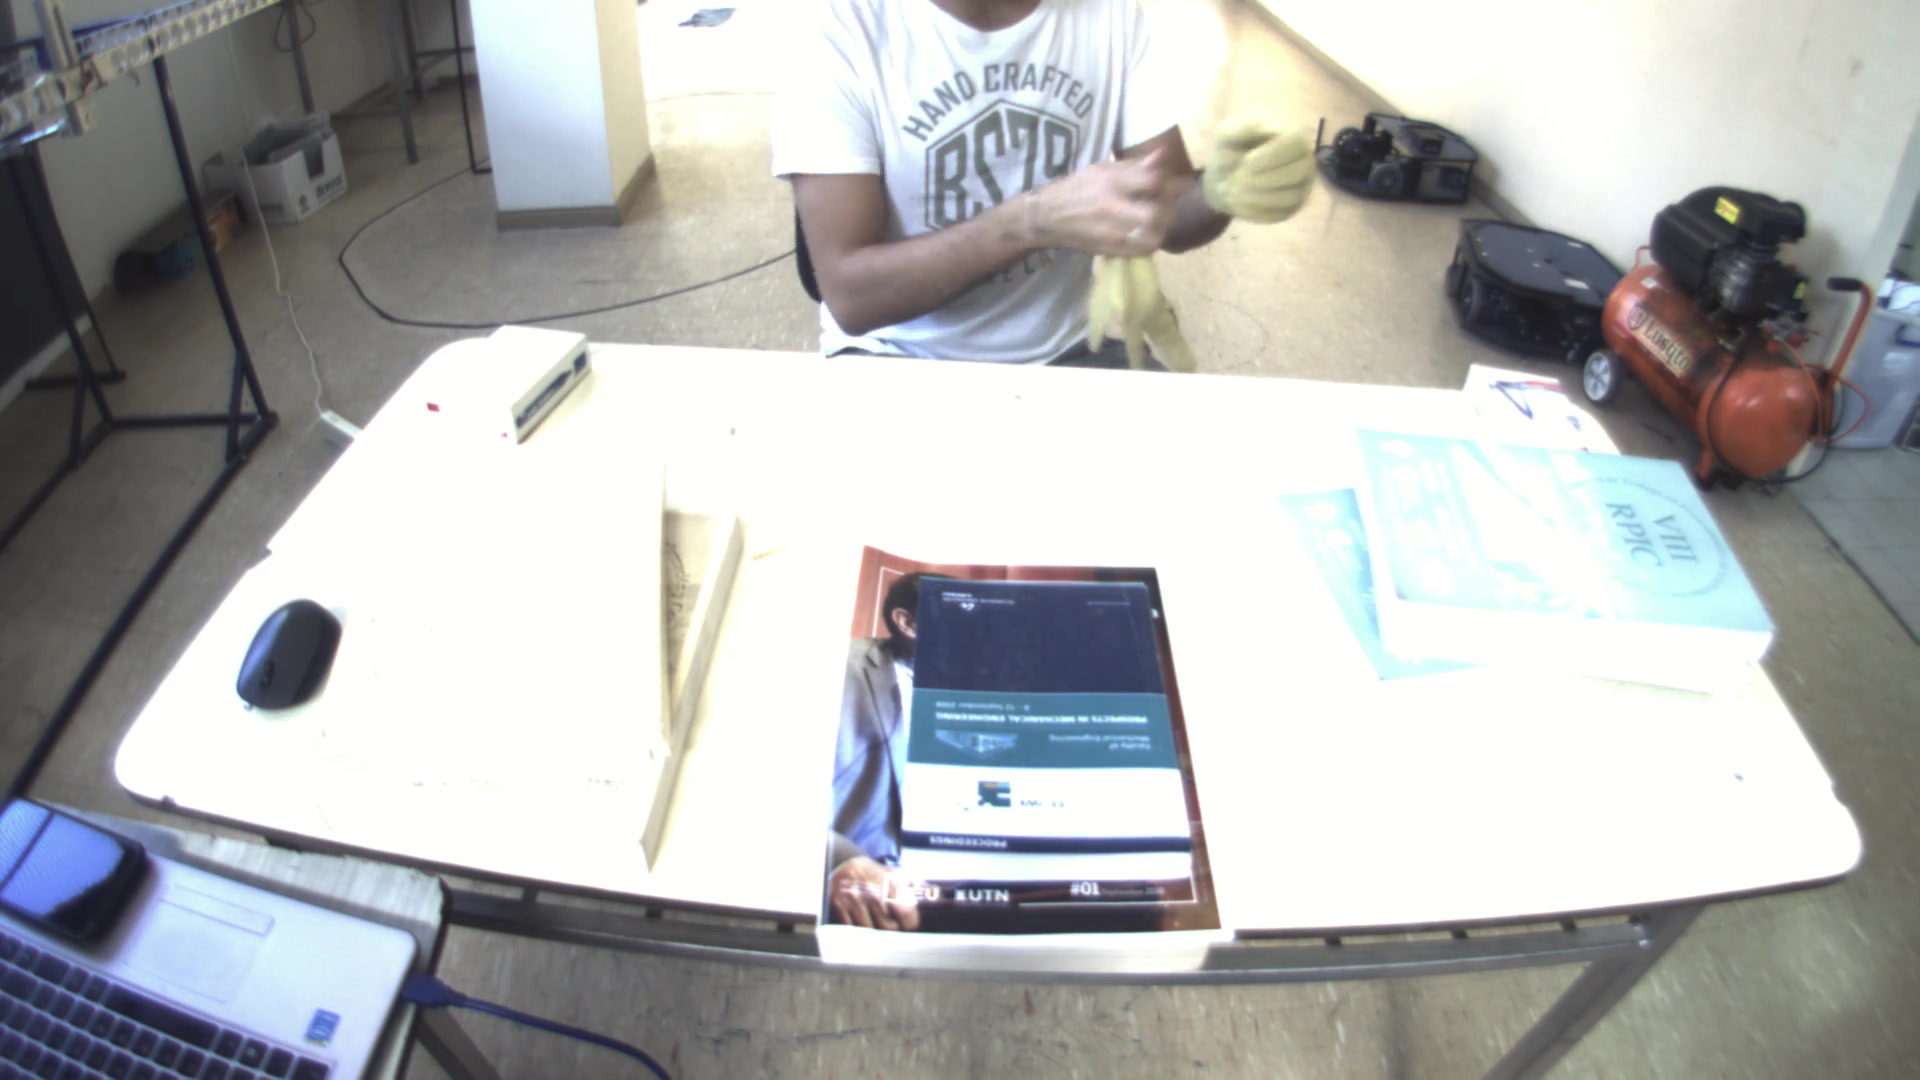hand: (1029, 145, 1179, 269), (1196, 117, 1316, 235)
